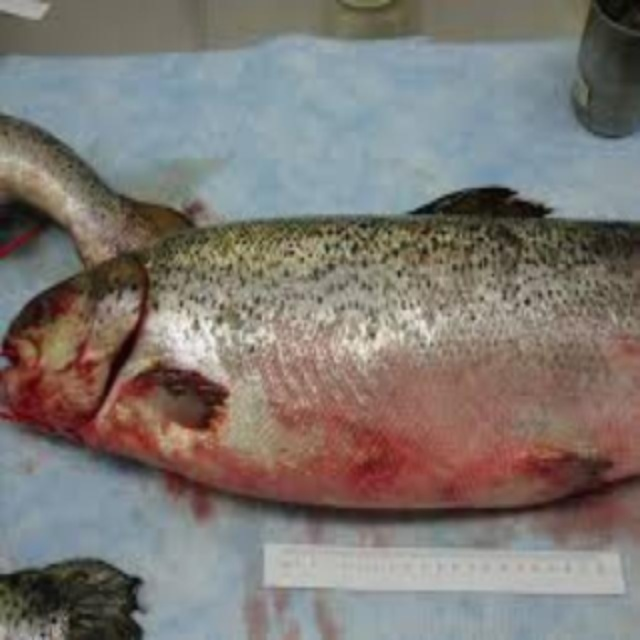EUS Disease: (1, 94, 640, 512), (0, 305, 640, 514), (0, 93, 198, 274)
